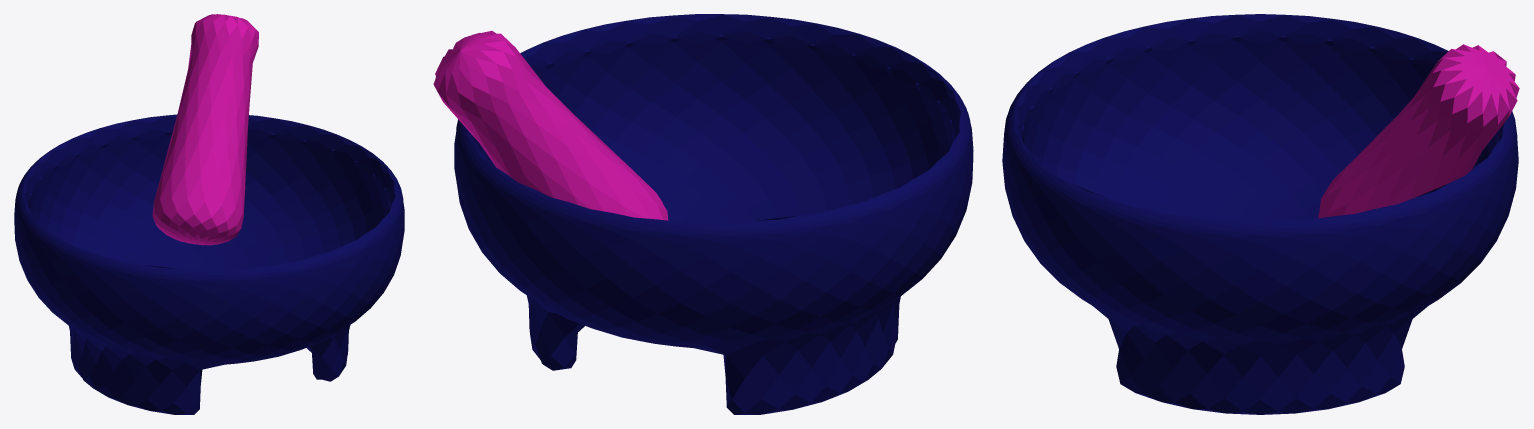
The model's file is BOWL.fbx.
The picture shows the model from 3 angles, left to right: view 1: azimuth 30°, elevation 25°; view 2: azimuth 150°, elevation 25°; view 3: azimuth 270°, elevation 25°; orthographic projection. The views are drawn at different scales.
Parts seen in each view (by area): view 1: mortar, pestle; view 2: mortar, pestle; view 3: mortar, pestle.
Boxes of the visible parts, x1,y1,x2,y2 form: mortar: (14,114,404,414); pestle: (152,14,258,245); mortar: (454,14,973,414); pestle: (433,30,668,220); mortar: (1002,14,1518,414); pestle: (1318,44,1519,218).
Size of the model in its own units: 301 by 225 by 301.
